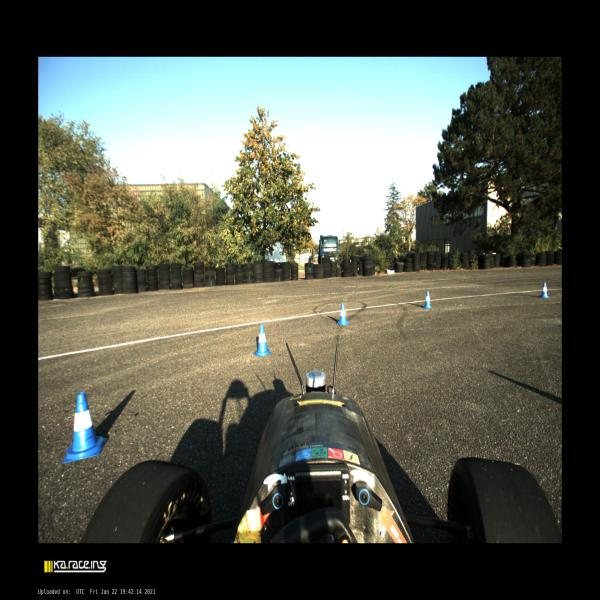blue_cone: (63, 392, 107, 464), (253, 324, 272, 357), (336, 303, 350, 325), (422, 292, 433, 308), (539, 282, 550, 298)
